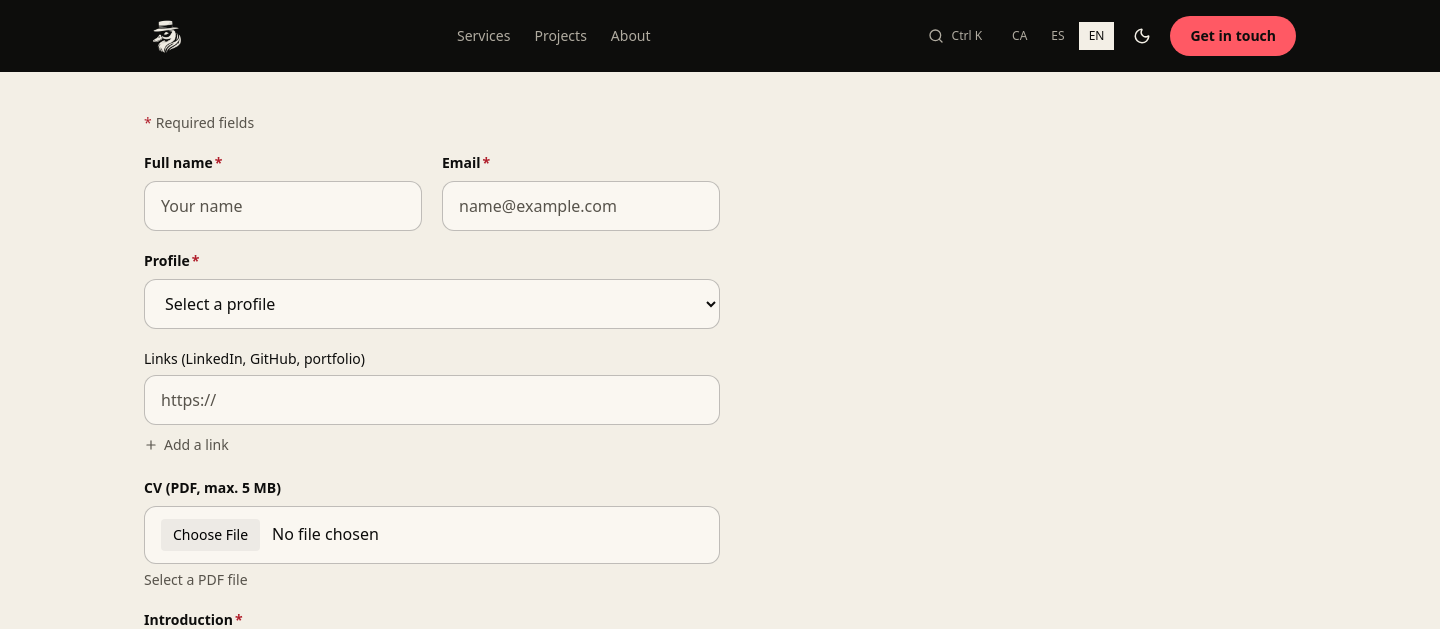
Test: careers form › adds and removes link fields up to the limit
(page scrolled)
Expected: the number of fields with placeholder "https://" is 1, [144,375,720,425]
Click the button "Add a link" at coordinates (186, 445), box [144,433,229,457]
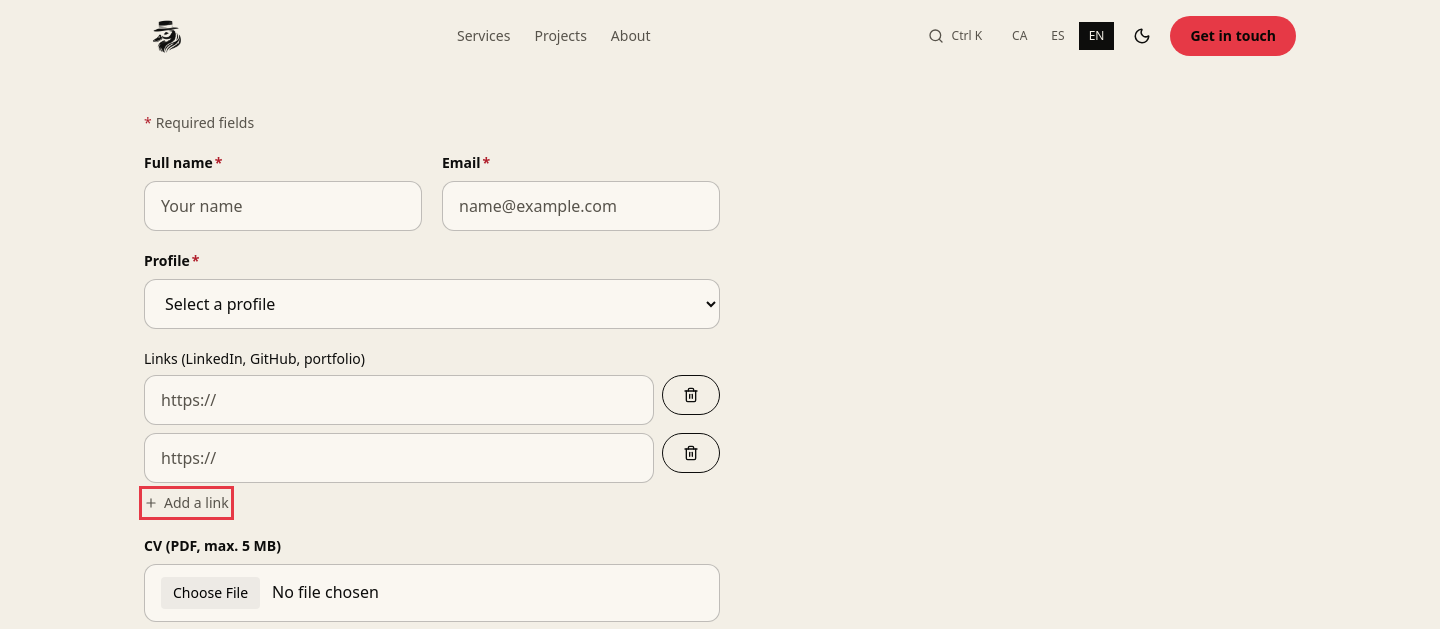
Result: the number of fields with placeholder "https://" is 2 at [144,375,654,425]; [144,433,654,483]
Click the 1st button named "Remove link" at coordinates (691, 395), box [662,375,720,415]
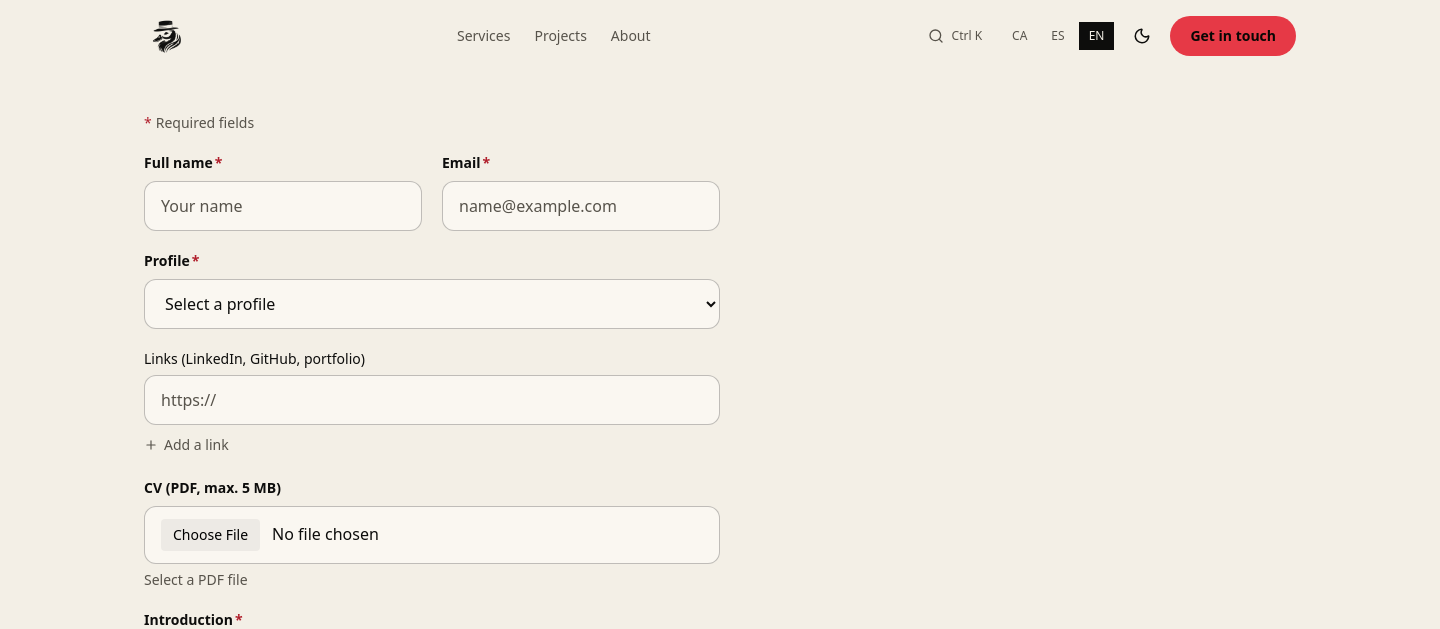
Result: the number of fields with placeholder "https://" is 1 at [144,375,720,425]
